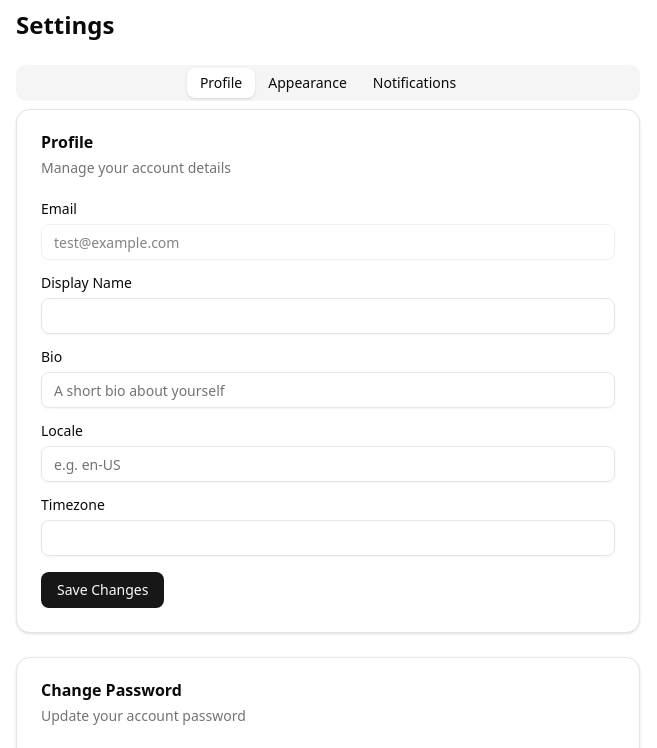
Test case: SettingsPage › should switch to Notifications tab on click
Click the tab "Notifications": click(414, 83) [360,68,469,98]
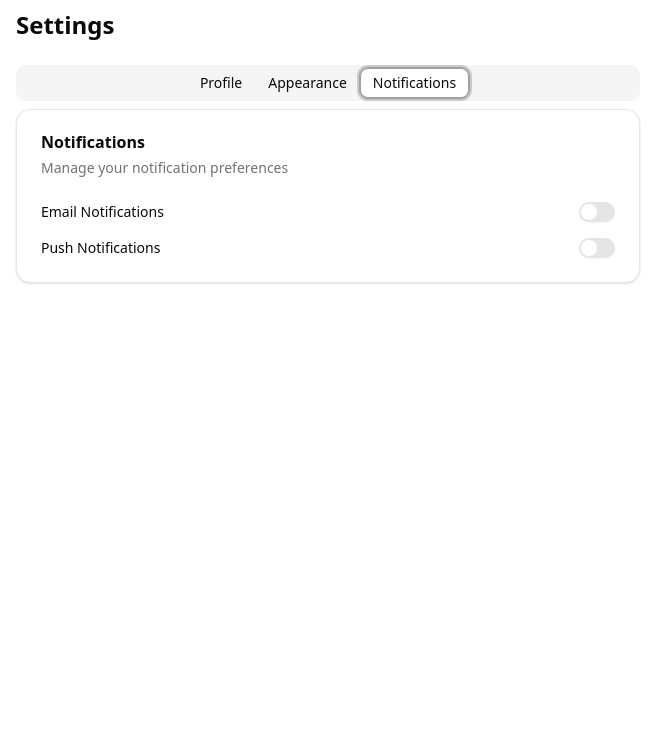
expect the text "Email Notifications" is shown: met, box [41,205,164,219]
